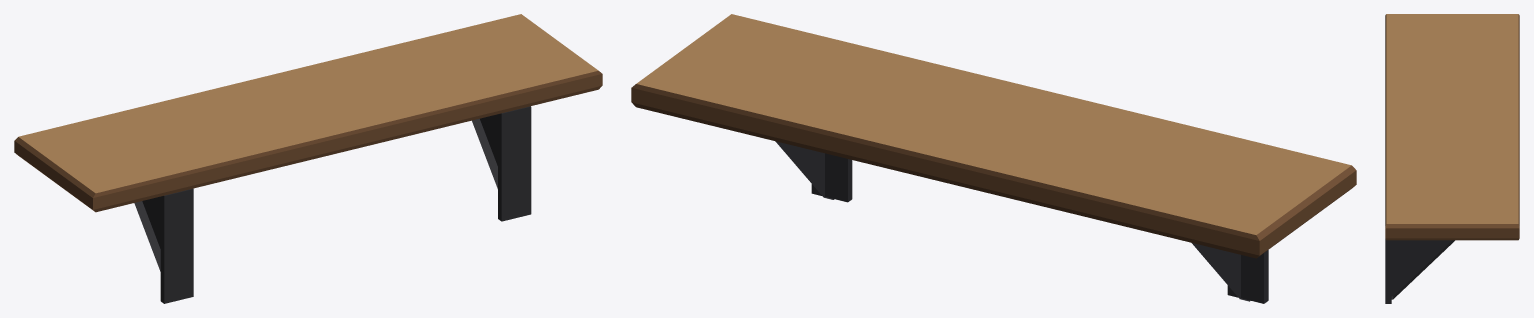
File: FN_Shelf_Wall.glb
The picture shows the model from 3 angles, left to right: view 1: azimuth 30°, elevation 25°; view 2: azimuth 150°, elevation 25°; view 3: azimuth 270°, elevation 25°; orthographic projection. The views are drawn at different scales.
Parts seen in each view (by area): view 1: FN_Shelf_Wall; view 2: FN_Shelf_Wall; view 3: FN_Shelf_Wall.
Boxes of the visible parts, <box> form: FN_Shelf_Wall: <box>14,14,602,303</box>; FN_Shelf_Wall: <box>631,14,1356,303</box>; FN_Shelf_Wall: <box>1385,14,1519,303</box>.
Size of the model in its own units: 0.9 by 0.214 by 0.24.
1 material, 1 textured.
